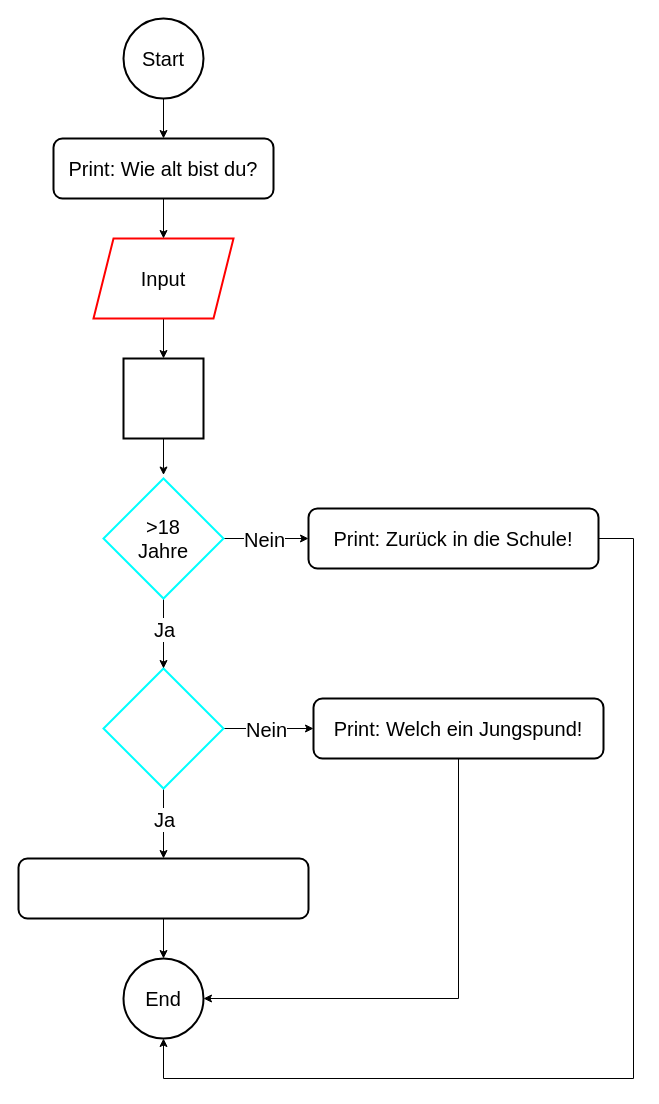
Some shapes in this 659 by 1104 pixel diagram are drawn without their labels. Each missing label, with the centre of its shape:
"+5 Jahre" goes at (163,398).
">50 Jahre" goes at (163,728).
"Print: Du bist alt geworden!" goes at (163,888).
